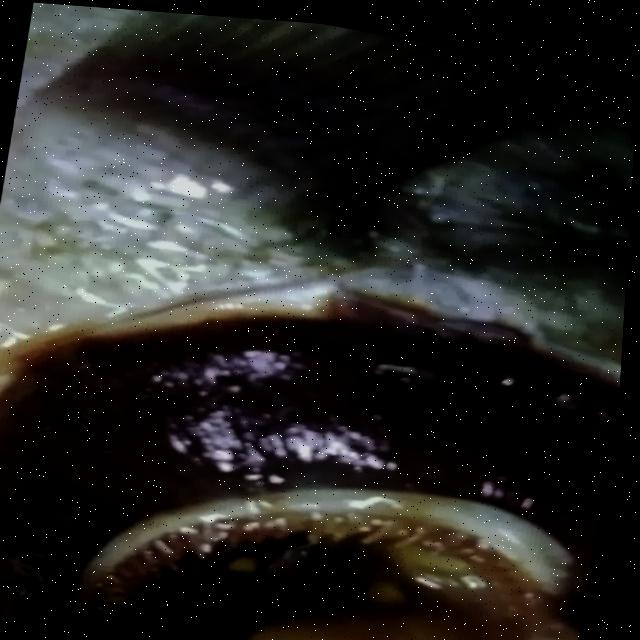Non-Fresh: (0, 230, 615, 640)
